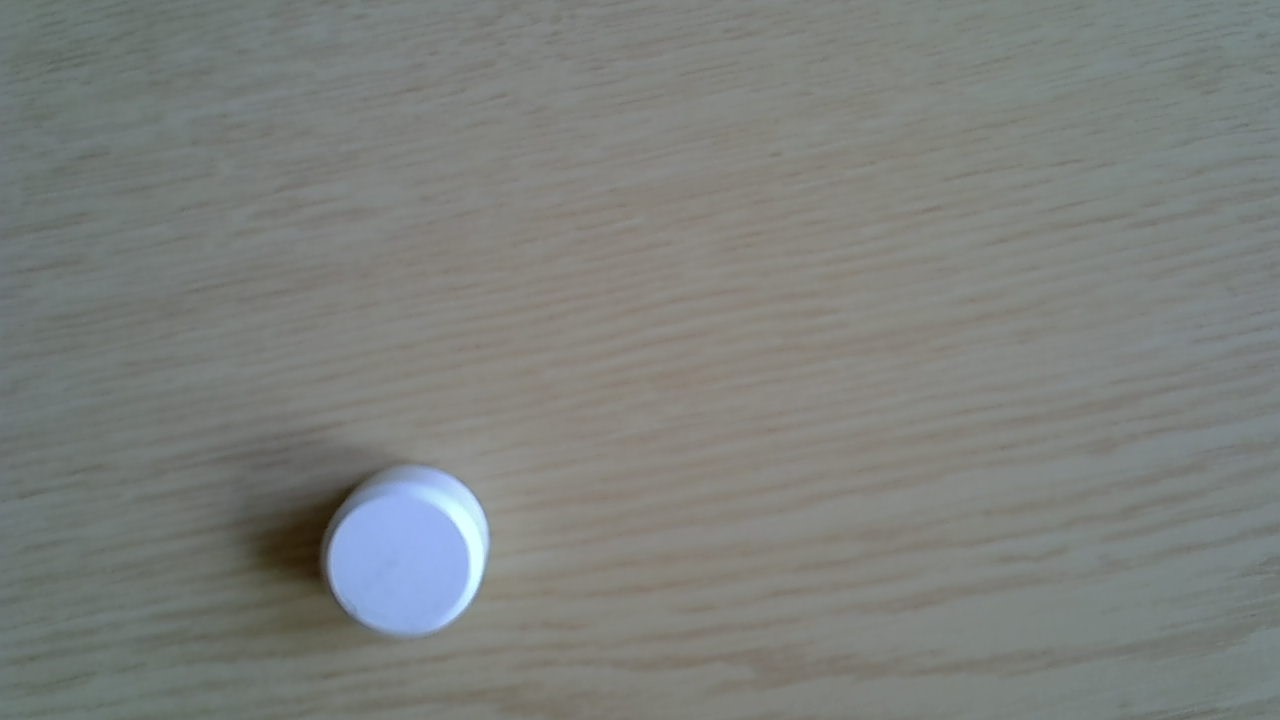WerkStueck: (318, 466, 491, 638)
